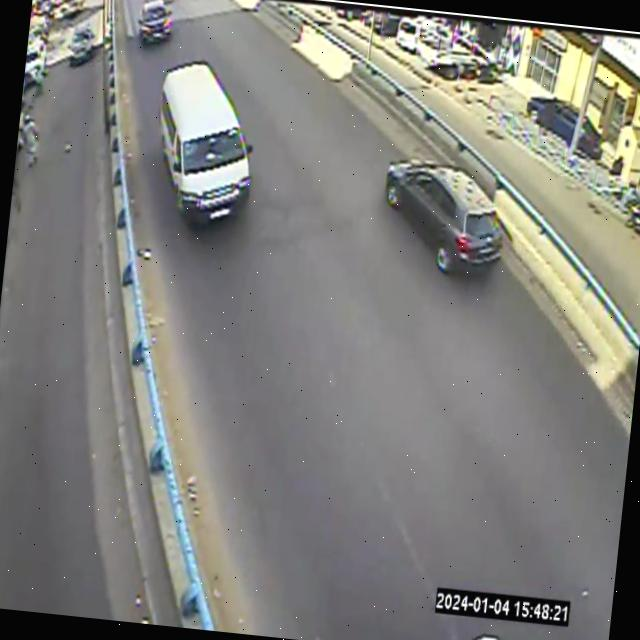car: (380, 141, 514, 290), (154, 59, 260, 245), (137, 0, 170, 43)
